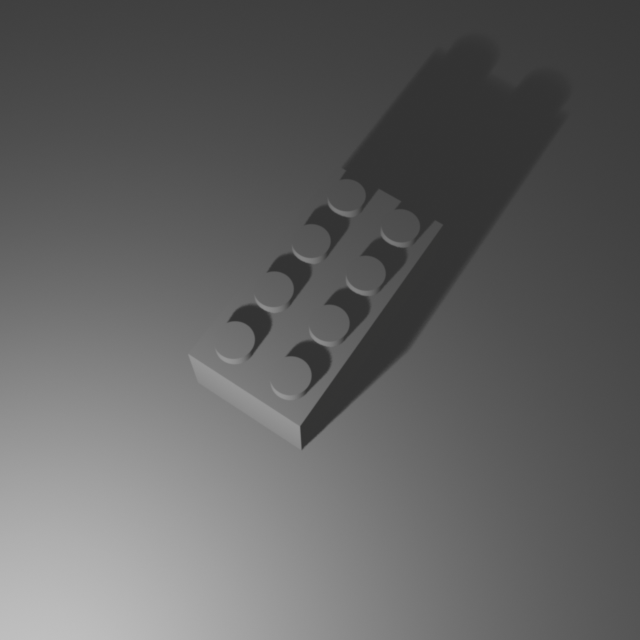lego_2x4: (186, 159, 445, 450)
